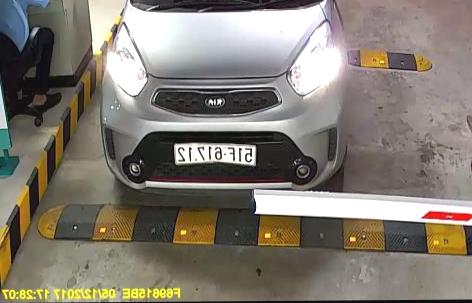License_Plate: (170, 140, 260, 172)
